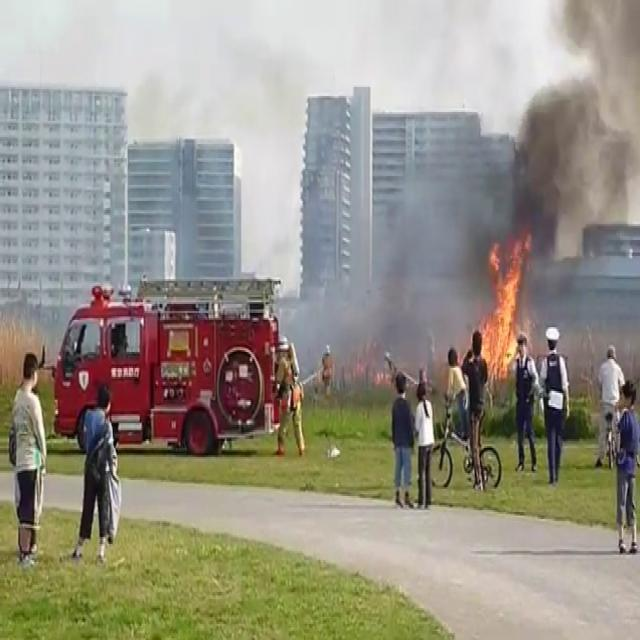Fire: (475, 232, 533, 378)
Smoke: (398, 0, 640, 314)
